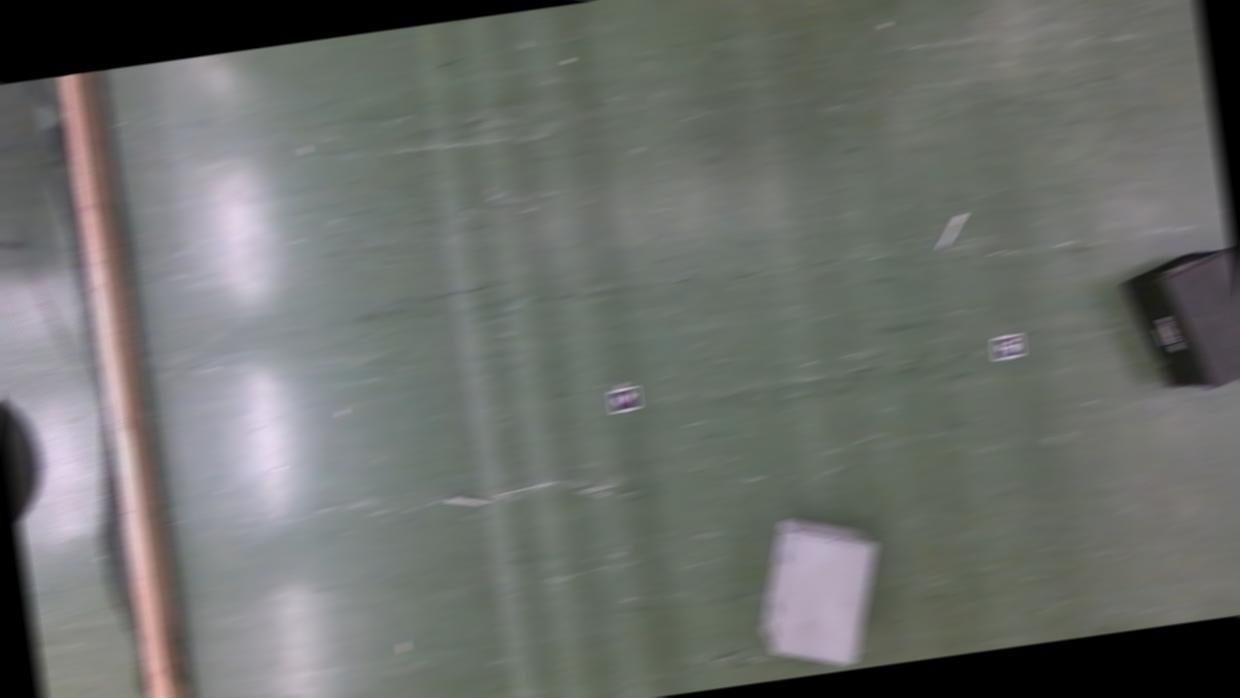probes: (934, 212, 967, 246), (444, 490, 490, 510)
rako: (746, 504, 892, 674), (1118, 243, 1240, 396)
